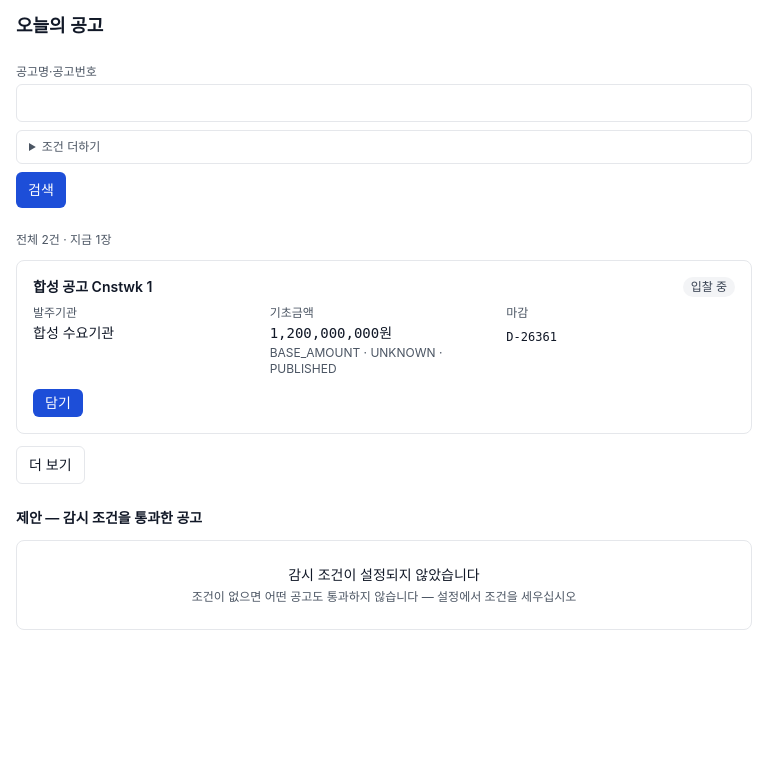
Test: 화면 B — 카드가 보이는 값은 API 응답의 값이다 › 받은 수가 전체보다 적으면 「더 보기」가 있고, 누르면 다음 쪽을 이어 붙인다
Click the button with test id "notices-more".
click(50, 465)  # box [16,446,85,484]
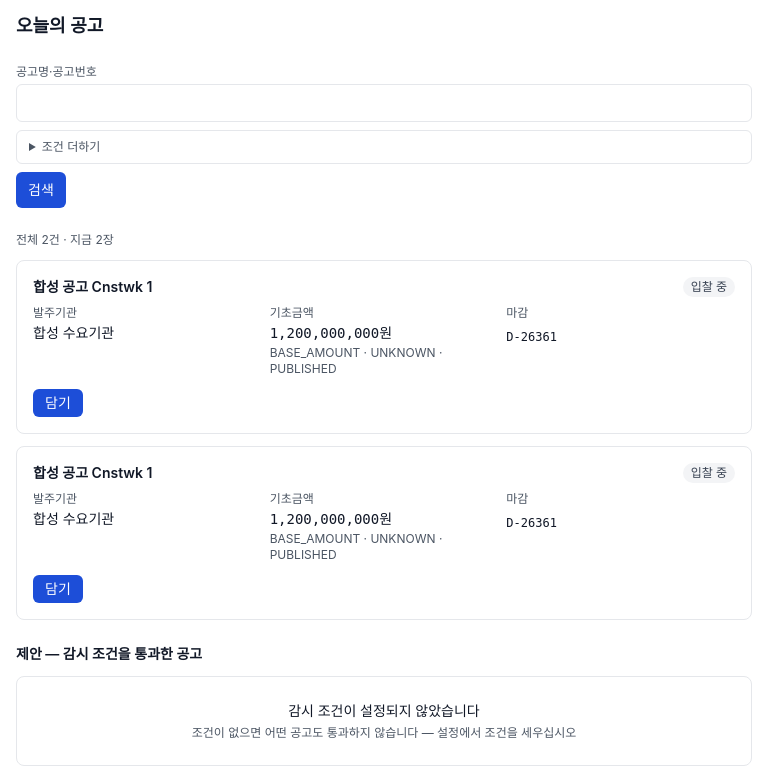
Expected: the button with test id "notices-more" is gone
